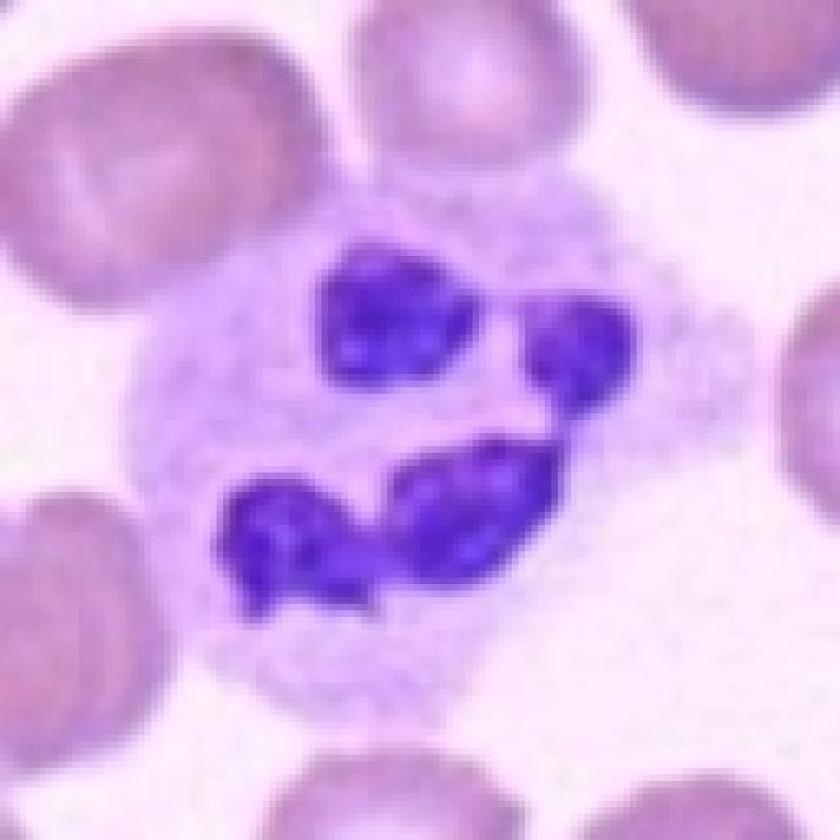neutrophil: (114, 161, 754, 743)
